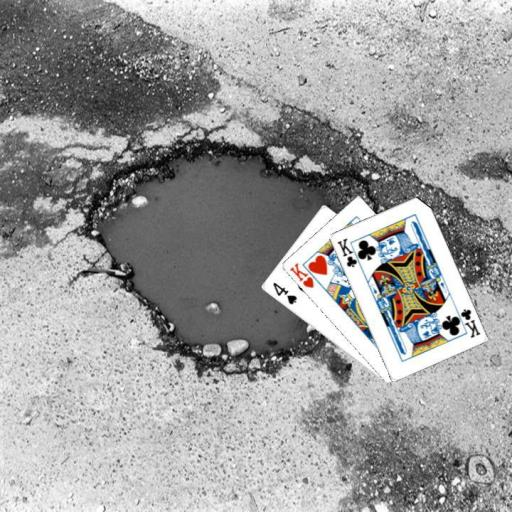4S: (269, 279, 298, 306)
KC: (334, 235, 363, 269), (453, 305, 482, 339)
KH: (286, 260, 315, 290)
